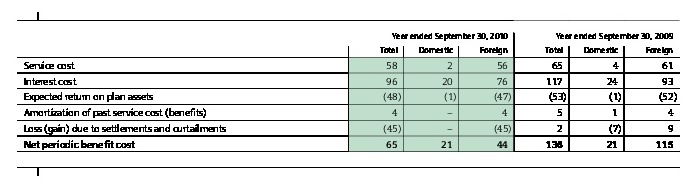table: (0, 0, 695, 189)
